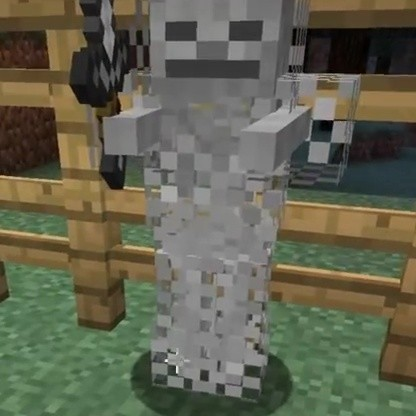skeleton: (129, 2, 305, 401)
